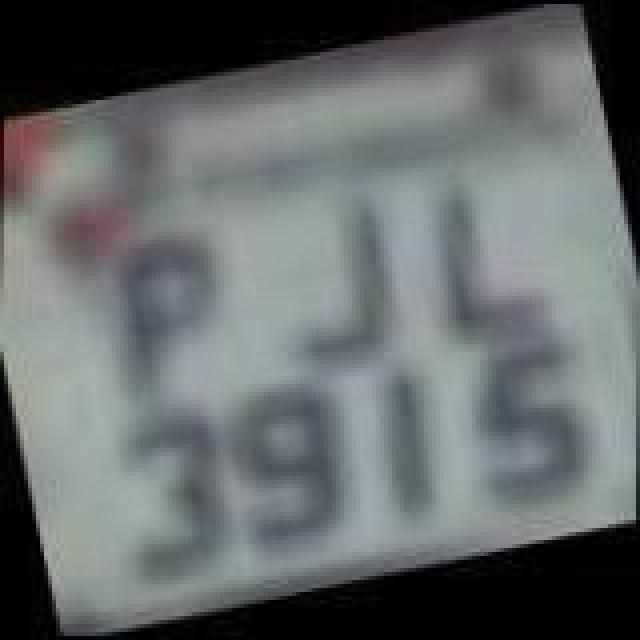1: (356, 358, 456, 526)
3: (96, 400, 248, 588)
5: (462, 328, 606, 512)
9: (222, 374, 366, 562)
J: (258, 182, 414, 378)
L: (416, 154, 564, 346)
P: (96, 224, 240, 412)
